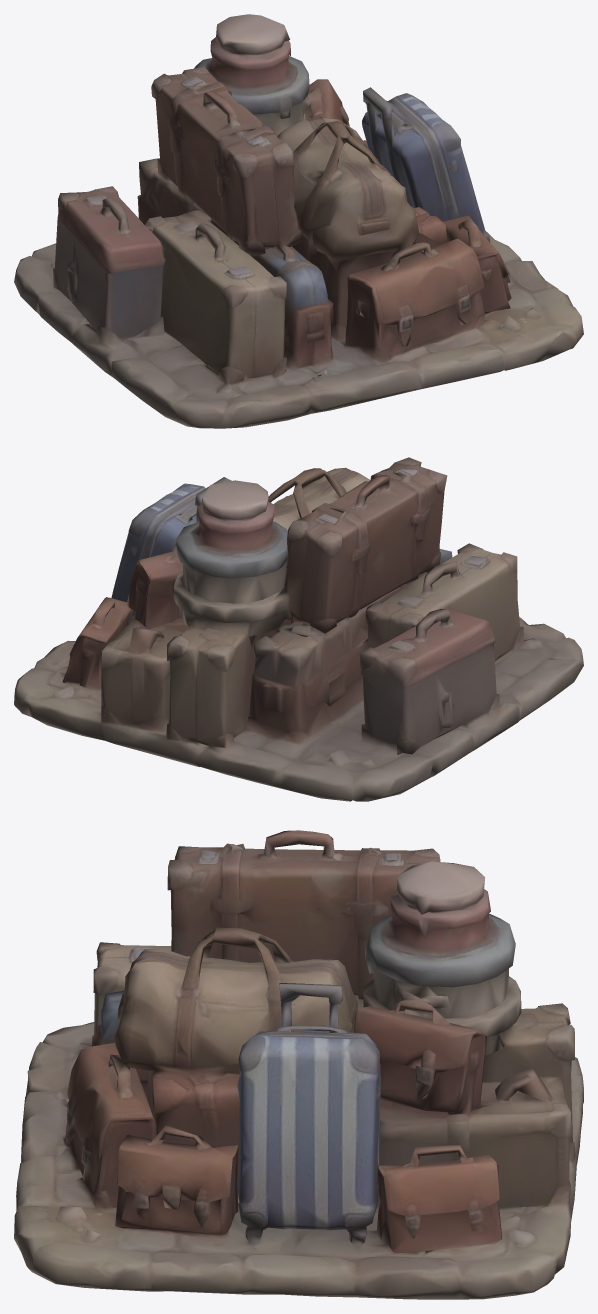
Rendered from jetty_luggage.glb.
The picture shows the model from 3 angles, top to bottom: view 1: azimuth 30°, elevation 25°; view 2: azimuth 150°, elevation 25°; view 3: azimuth 270°, elevation 25°; orthographic projection. The views are drawn at different scales.
Visible parts, largest first — view 1: tripo_node_be39b843-22c1-4224-a5a8-dc3189ed00f1; view 2: tripo_node_be39b843-22c1-4224-a5a8-dc3189ed00f1; view 3: tripo_node_be39b843-22c1-4224-a5a8-dc3189ed00f1.
Part boxes in pixels (x1,y1,x2,y2): tripo_node_be39b843-22c1-4224-a5a8-dc3189ed00f1: [14, 14, 583, 428]; tripo_node_be39b843-22c1-4224-a5a8-dc3189ed00f1: [14, 457, 583, 801]; tripo_node_be39b843-22c1-4224-a5a8-dc3189ed00f1: [14, 830, 583, 1299].
Bounding box in the file's own units: 1 × 0.5377 × 0.929.
1 material, 1 textured.
